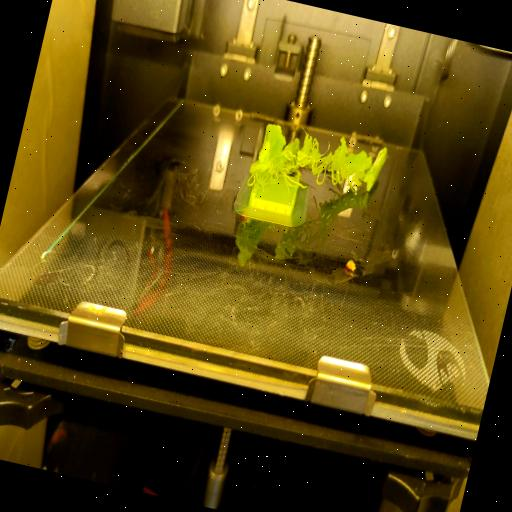spaghetti: (244, 112, 372, 206)
